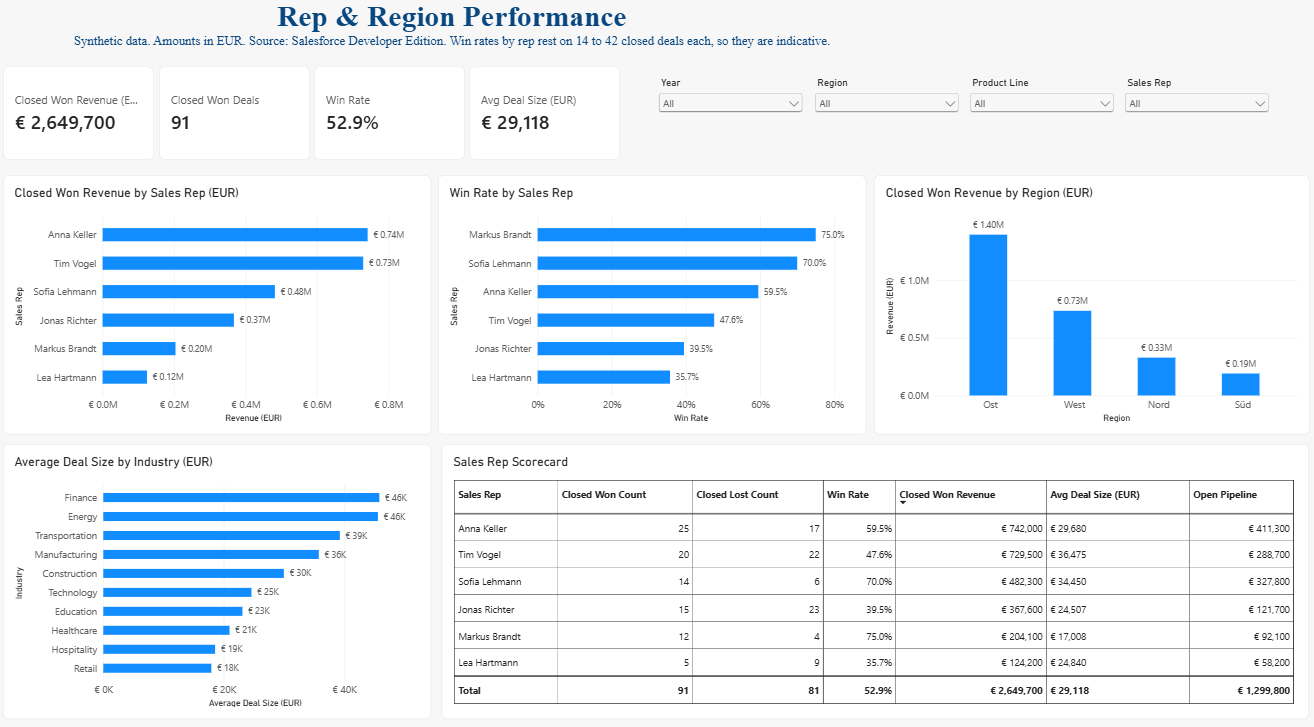

The dashboard page shown, as its layout file describes it:
{"tool":"powerbi","page":{"name":"Rep & Region Performance","canvas":[1920,1080],"ordinal":3},"visuals":[{"type":"textbox","box":[15,8,1300,85],"z":0},{"type":"slicer","fields":{"Values":["DimDate.Year"]},"box":[960,120,218,90],"z":1000},{"type":"slicer","fields":{"Values":["DimAccount.Region"]},"box":[1185,120,218,90],"z":2000},{"type":"slicer","fields":{"Values":["DimRep.Sales Rep"]},"box":[1635,120,218,90],"z":3000},{"type":"slicer","fields":{"Values":["DimProduct.Product Line"]},"box":[1410,120,218,90],"z":4000},{"type":"cardVisual","fields":{"Data":["_Measures.Closed Won Count"]},"box":[240,105,218,135],"z":5000},{"type":"cardVisual","fields":{"Data":["_Measures.Win Rate"]},"box":[465,105,218,135],"z":6000},{"type":"cardVisual","fields":{"Data":["_Measures.Avg Deal Size (EUR)"]},"box":[690,105,218,135],"z":7000},{"type":"clusteredBarChart","title":"Closed Won Revenue by Sales Rep (EUR)","fields":{"Category":["DimRep.Sales Rep"],"Y":["_Measures.Closed Won Revenue"]},"box":[15,262,620,375],"z":8000},{"type":"clusteredBarChart","title":"Win Rate by Sales Rep","fields":{"Category":["DimRep.Sales Rep"],"Y":["_Measures.Win Rate"]},"box":[645,262,620,375],"z":9000},{"type":"clusteredColumnChart","title":"Closed Won Revenue by Region (EUR)","fields":{"Category":["DimAccount.Region"],"Y":["_Measures.Closed Won Revenue"]},"box":[1275,262,630,375],"z":10000},{"type":"clusteredBarChart","title":"Average Deal Size by Industry (EUR)","fields":{"Category":["DimAccount.Industry"],"Y":["_Measures.Avg Deal Size"]},"box":[15,652,620,398],"z":11000},{"type":"tableEx","title":"Sales Rep Scorecard","fields":{"Values":["DimRep.Sales Rep","_Measures.Closed Won Count","_Measures.Closed Lost Count","_Measures.Win Rate","_Measures.Closed Won Revenue","_Measures.Avg Deal Size (EUR)","_Measures.Open Pipeline"]},"box":[650,652,1255,398],"z":12000},{"type":"cardVisual","fields":{"Data":["_Measures.Closed Won Revenue"]},"box":[15,105,218,135],"z":13000}]}

Visuals, with their boxes in screenshot pixels (x1, y1, x2, y2), scaled from the page's 1920x1080 canvas onto the 1314x727 screenshot:
textbox: pyautogui.locateOnScreen(10, 5, 900, 63)
slicer - DimDate.Year: pyautogui.locateOnScreen(657, 81, 806, 141)
slicer - DimAccount.Region: pyautogui.locateOnScreen(811, 81, 960, 141)
slicer - DimRep.Sales Rep: pyautogui.locateOnScreen(1119, 81, 1268, 141)
slicer - DimProduct.Product Line: pyautogui.locateOnScreen(965, 81, 1114, 141)
cardVisual - _Measures.Closed Won Count: pyautogui.locateOnScreen(164, 71, 313, 162)
cardVisual - _Measures.Win Rate: pyautogui.locateOnScreen(318, 71, 467, 162)
cardVisual - _Measures.Avg Deal Size (EUR): pyautogui.locateOnScreen(472, 71, 621, 162)
"Closed Won Revenue by Sales Rep (EUR)" clusteredBarChart: pyautogui.locateOnScreen(10, 176, 435, 429)
"Win Rate by Sales Rep" clusteredBarChart: pyautogui.locateOnScreen(441, 176, 866, 429)
"Closed Won Revenue by Region (EUR)" clusteredColumnChart: pyautogui.locateOnScreen(873, 176, 1304, 429)
"Average Deal Size by Industry (EUR)" clusteredBarChart: pyautogui.locateOnScreen(10, 439, 435, 707)
"Sales Rep Scorecard" tableEx: pyautogui.locateOnScreen(445, 439, 1304, 707)
cardVisual - _Measures.Closed Won Revenue: pyautogui.locateOnScreen(10, 71, 159, 162)
